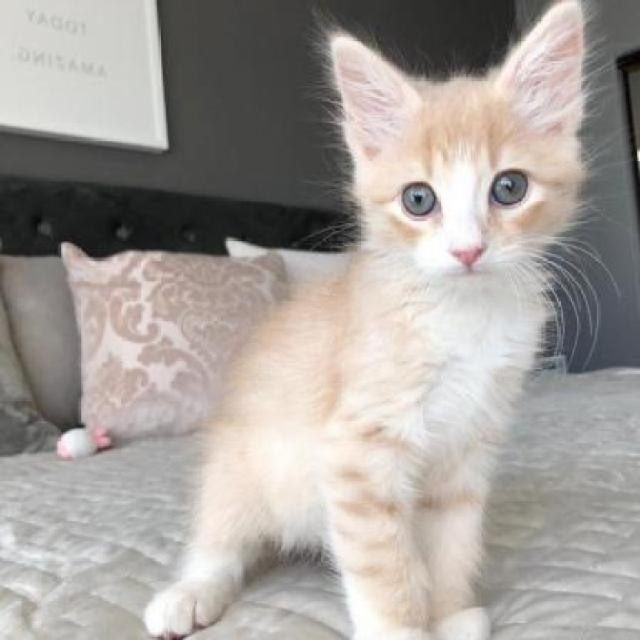cat: (150, 0, 601, 640)
